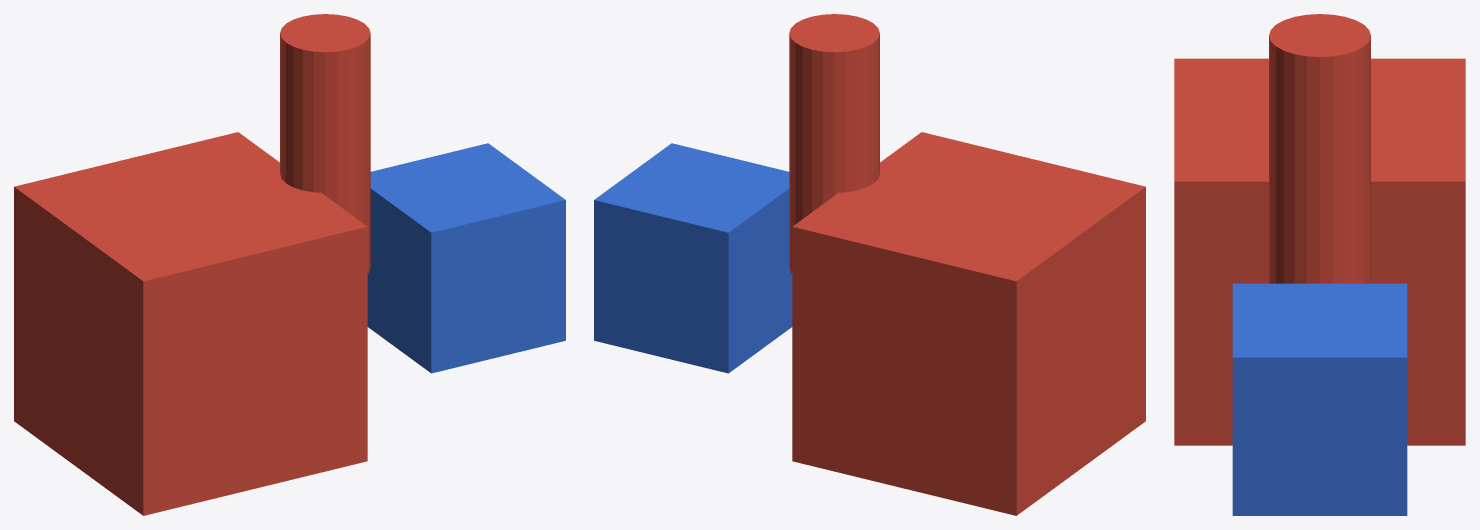
Rendered from preview.glb.
3 views of the same model, side by side, from view 1: azimuth 30°, elevation 25°; view 2: azimuth 150°, elevation 25°; view 3: azimuth 270°, elevation 25° (orthographic). The views are drawn at different scales.
Parts seen in each view (by area): view 1: uploaded_asset; view 2: uploaded_asset; view 3: uploaded_asset.
Boxes of the visible parts, x1=… form: uploaded_asset: x1=14, y1=14, x2=565, y2=515; uploaded_asset: x1=594, y1=14, x2=1145, y2=515; uploaded_asset: x1=1174, y1=14, x2=1465, y2=515.
Bounding box in the file's own units: 2.6 × 2.08 × 1.3.
